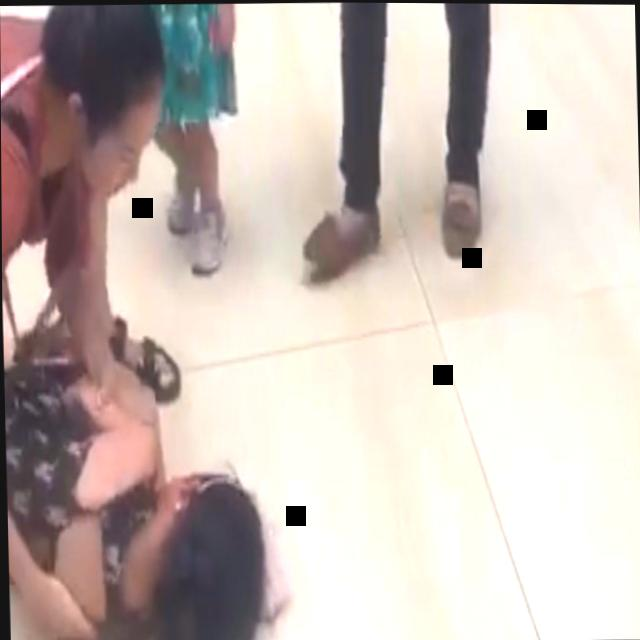Fall-Detected: (2, 281, 291, 640)
